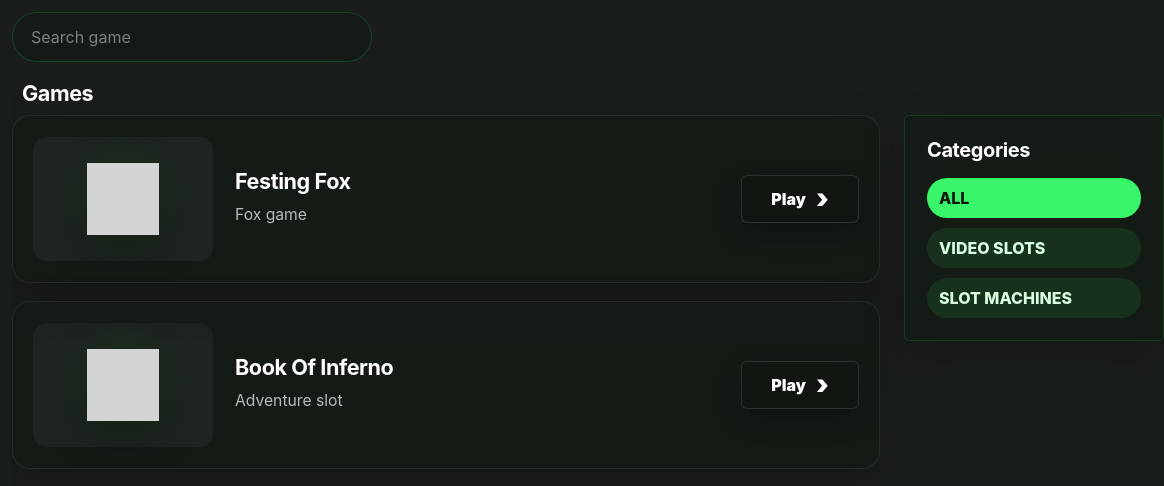
Test: GamesPage › filters visible games by selected category
Expected: the heading "Festing Fox" is shown, x1=235 y1=168 x2=351 y2=194
Expected: the heading "Book Of Inferno" is shown, x1=235 y1=354 x2=393 y2=380
Click the button "VIDEO SLOTS" at (1034, 248), box x1=927 y1=228 x2=1141 y2=268
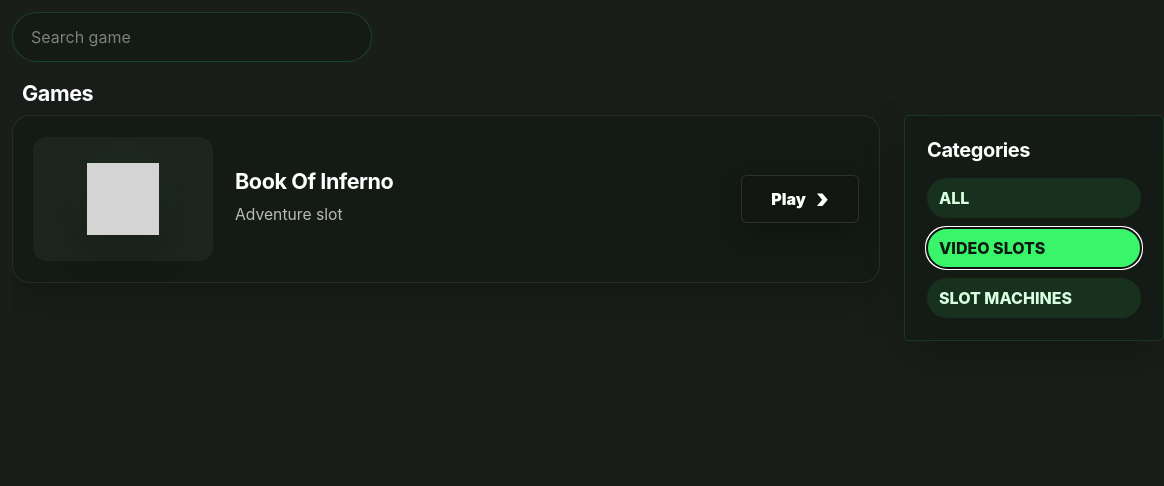
Expected: the heading "Book Of Inferno" is shown, x1=235 y1=168 x2=393 y2=194
Expected: the heading "Festing Fox" is gone
